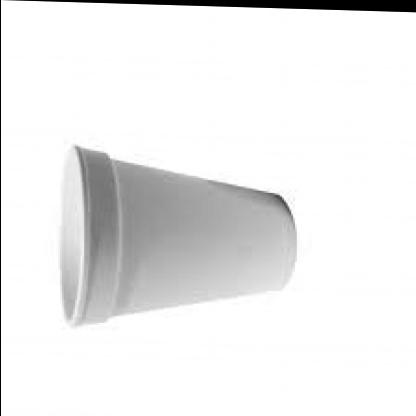trash: (61, 146, 295, 323)
